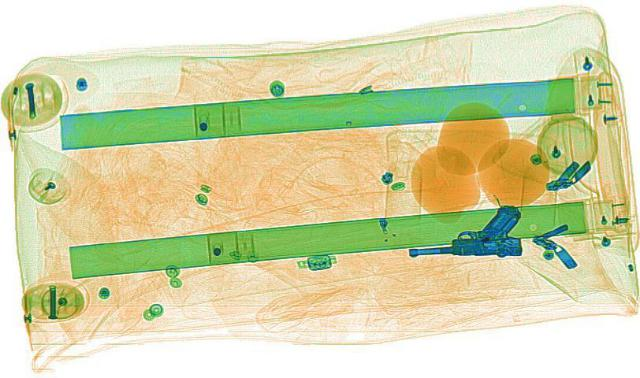Gun: (397, 201, 529, 260)
